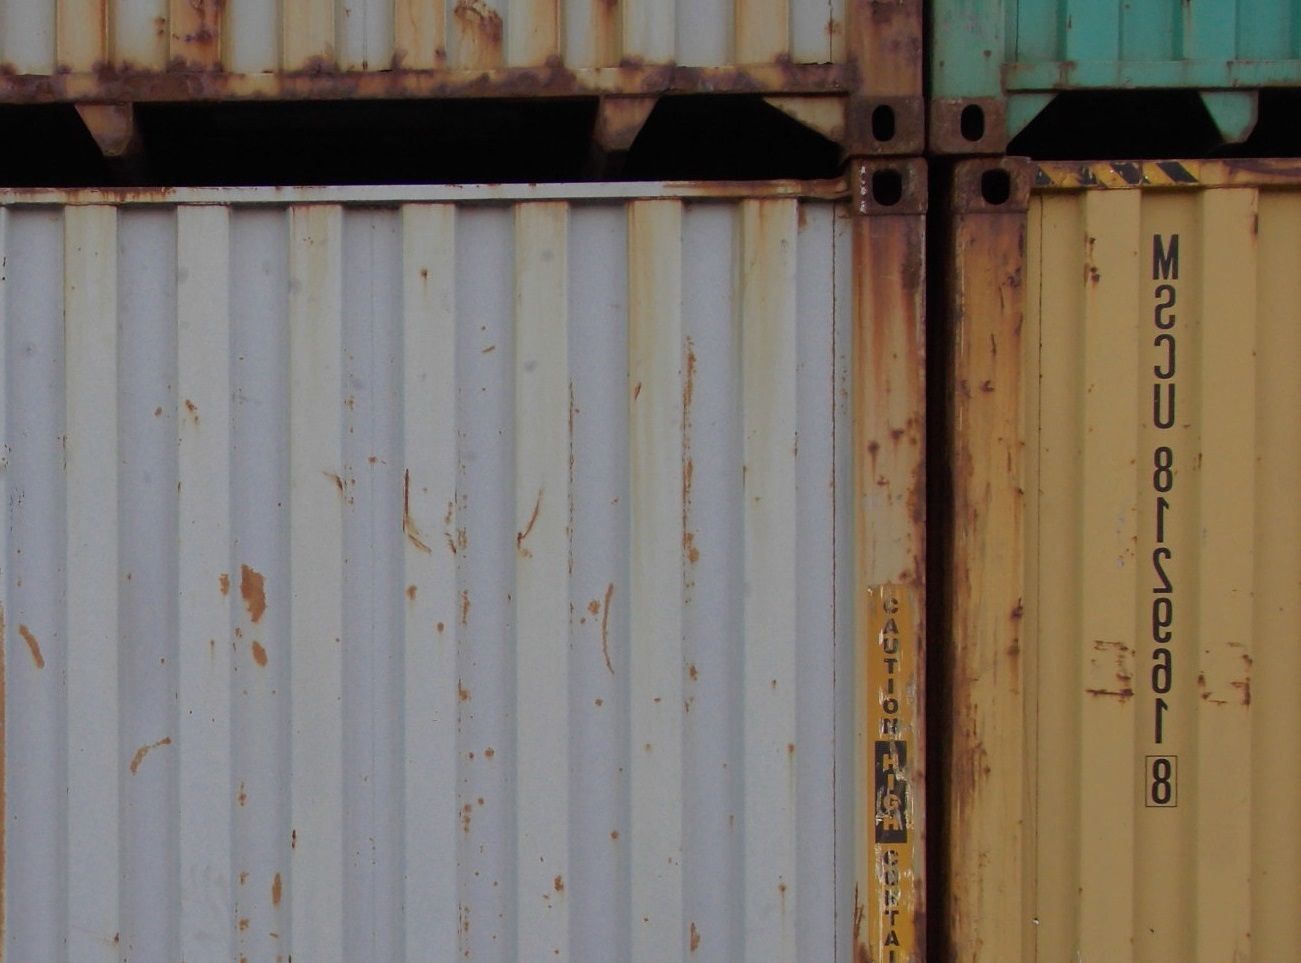container_no_door: (5, 179, 940, 963)
